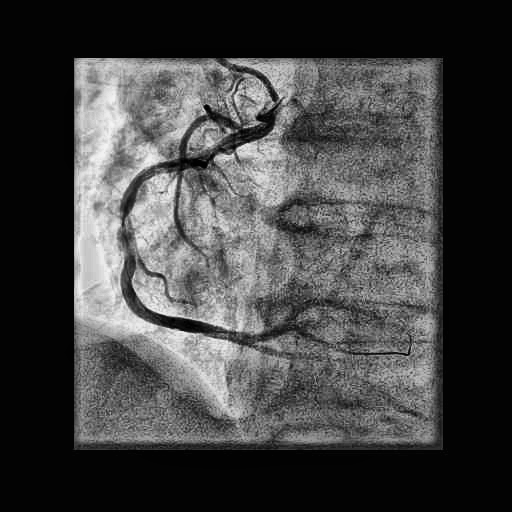pborca: (220, 297, 362, 344)
pda: (241, 341, 300, 359)
rca: (119, 157, 242, 343)
